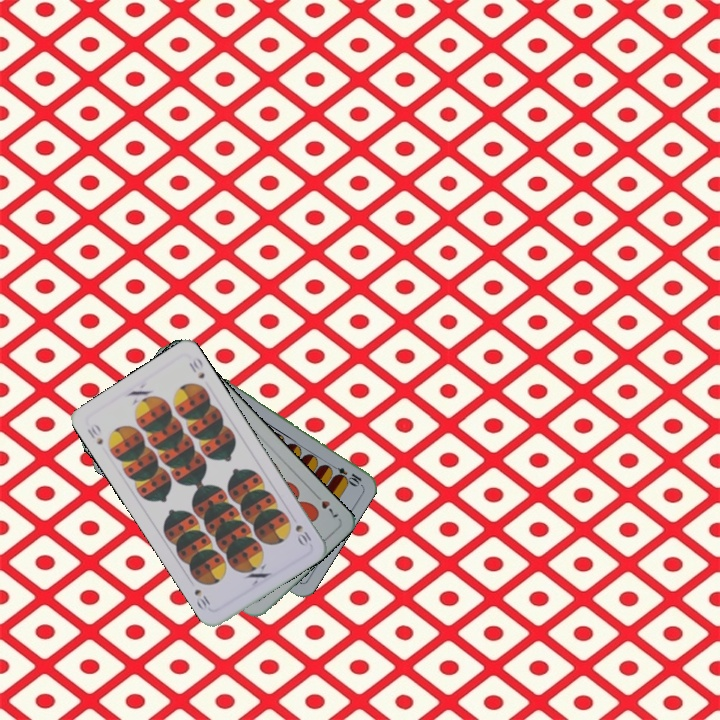E10: (326, 460, 364, 488)
H7: (310, 489, 341, 523)
S10: (83, 420, 106, 448), (291, 520, 314, 547)
